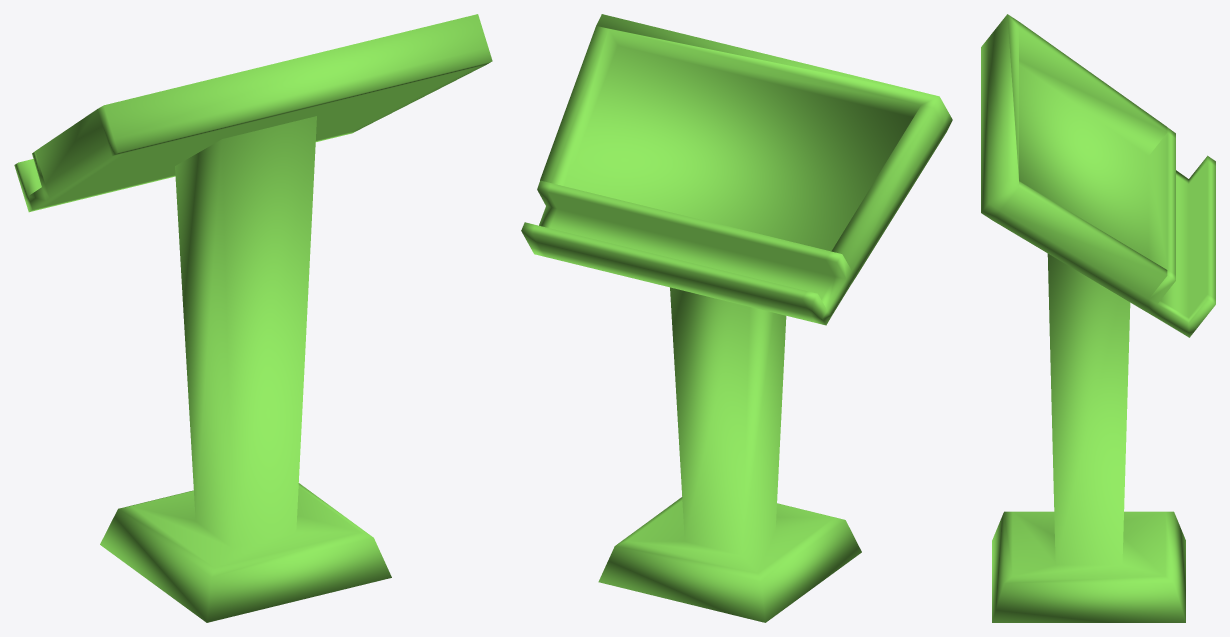
Rendered from cDesk.fbx.
The picture shows the model from 3 angles, left to right: view 1: azimuth 30°, elevation 25°; view 2: azimuth 150°, elevation 25°; view 3: azimuth 270°, elevation 25°; orthographic projection. The views are drawn at different scales.
Visible parts, largest first — view 1: Cube.002; view 2: Cube.002; view 3: Cube.002.
Boxes of the visible parts, left/top/right/bottom form: Cube.002: left=14, top=14, right=492, bottom=622; Cube.002: left=521, top=14, right=952, bottom=622; Cube.002: left=981, top=14, right=1215, bottom=622.
Size of the model in its own units: 157 by 214 by 94.13.
